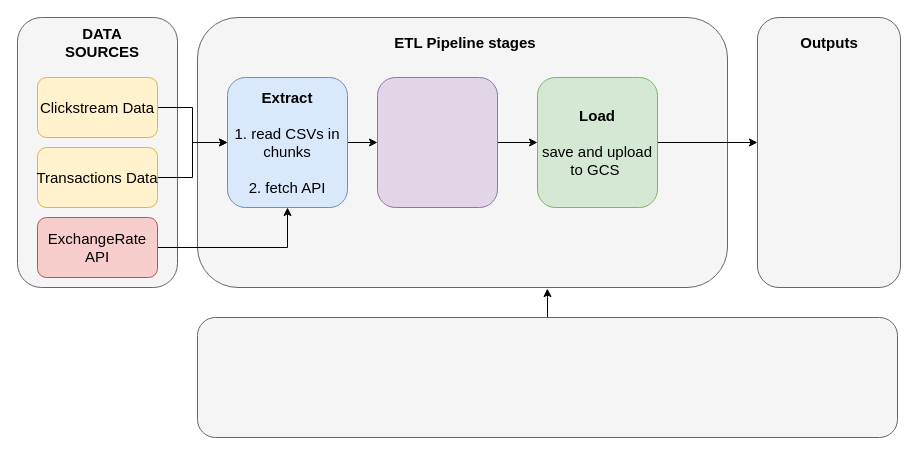
This 918x455 diagram has some shape labels left out. The shapes that lost their labels are listed below. From the top down, each one's box as (x1, y1, x2, y2) in pixels, then its label:
(376, 76, 498, 208): Transform 1. clean 2. deduplicate 3. enrich data
(756, 16, 900, 288): GCS bucket with partitioned folders per ingest date
(196, 316, 898, 438): Logging & Alerts
